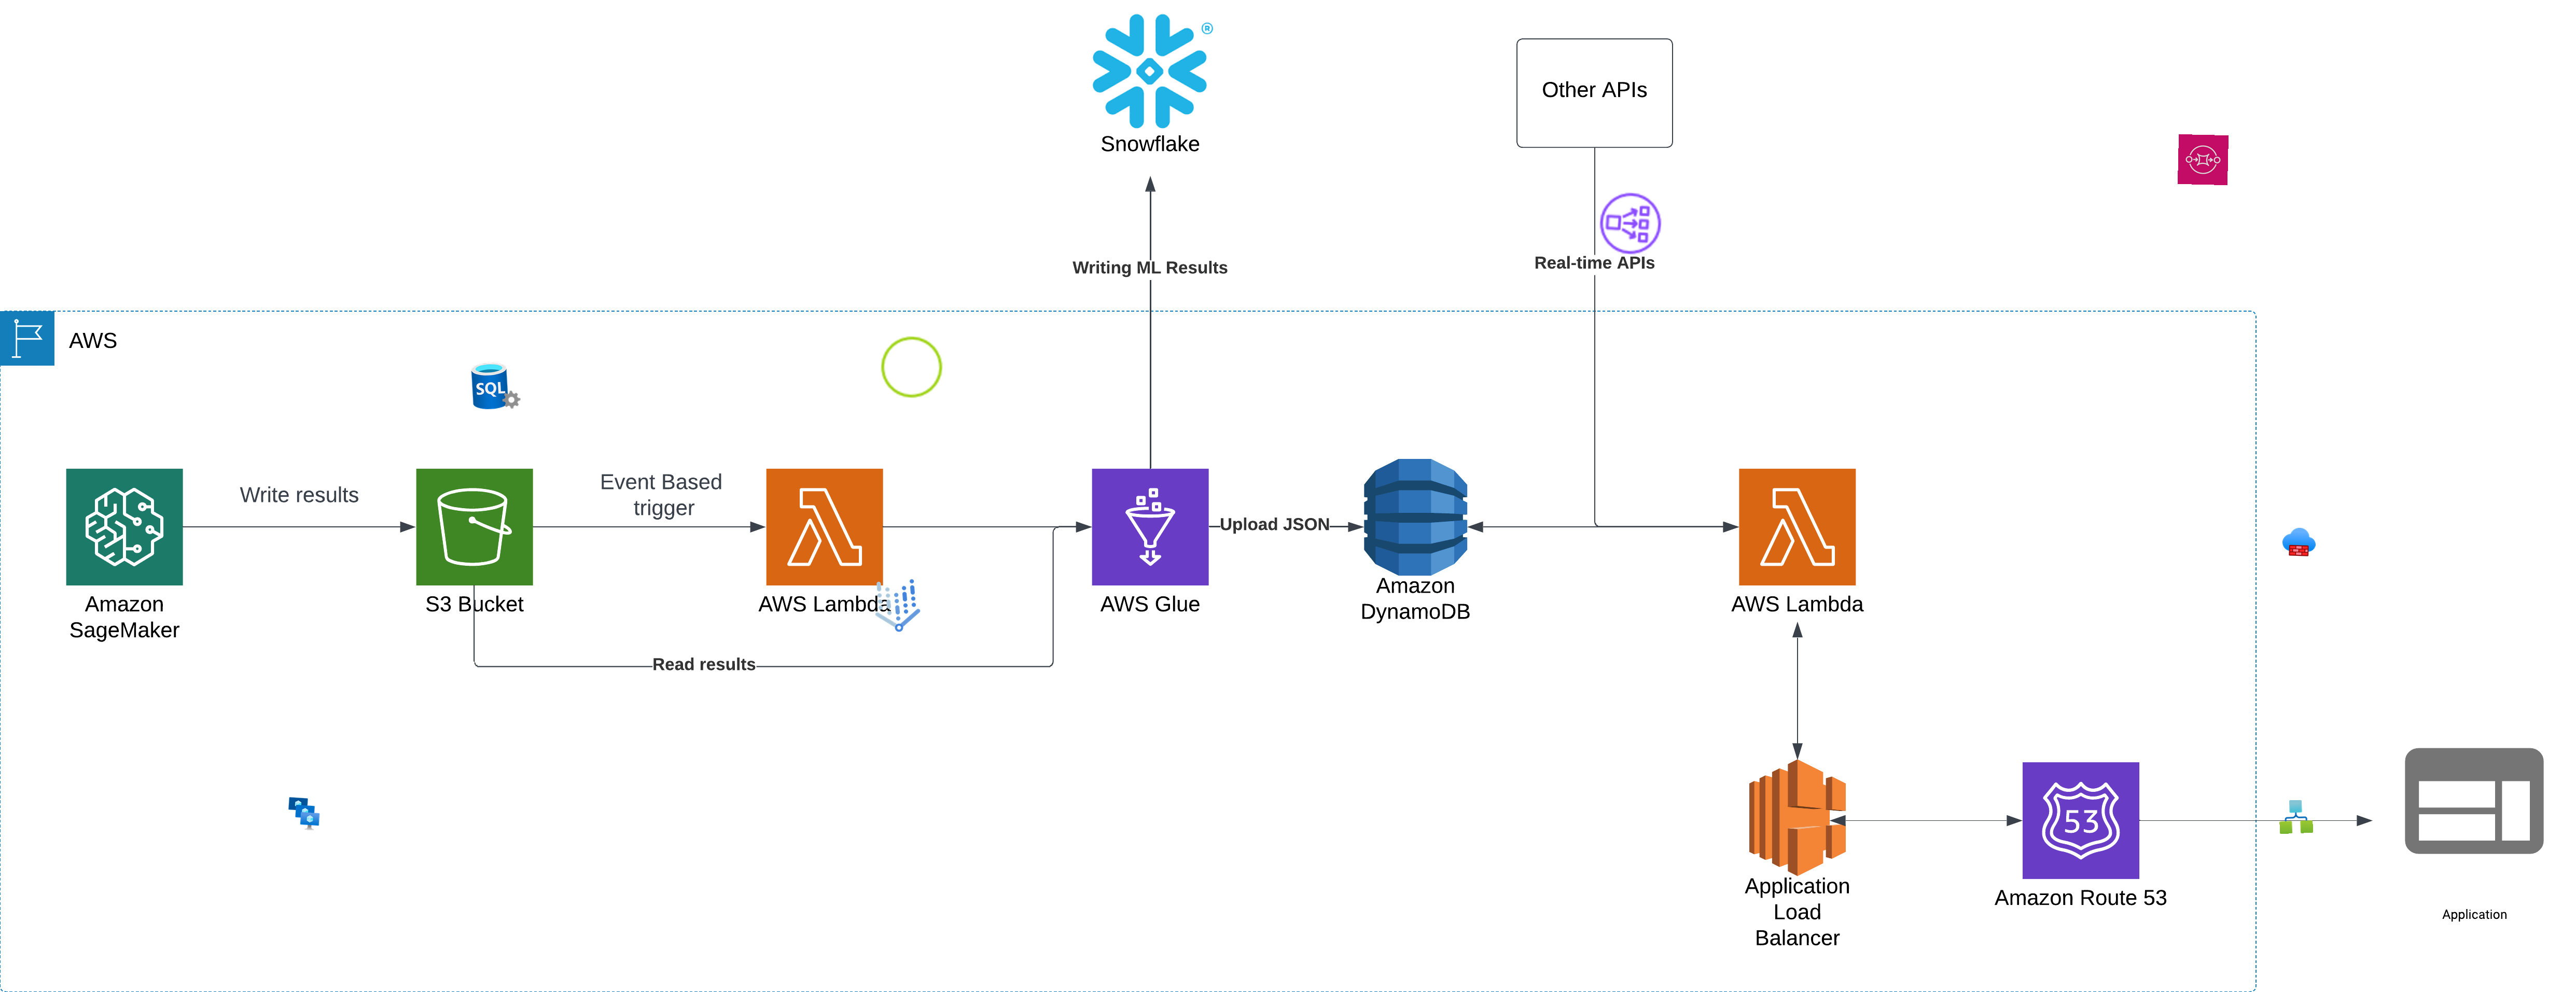aws_amazon_simple_queue_service: (2177, 133, 2229, 186)
aws_elastic_load_balancing_network_load_balancer: (1595, 189, 1666, 259)
aws_simple_storage_service_object: (877, 332, 946, 402)
azure_firewalls: (2282, 524, 2316, 560)
azure_logic_apps: (2279, 800, 2313, 834)
azure_sql_server: (470, 360, 522, 412)
azure_vm_scale_sets: (286, 795, 322, 831)
gcp_vertex_ai: (861, 570, 933, 642)
